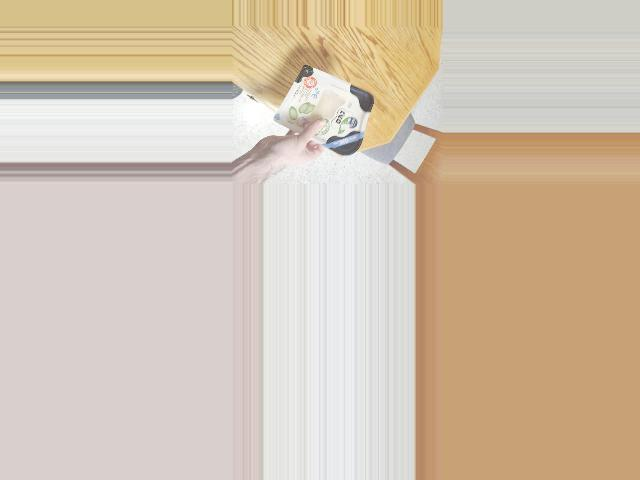cheese: (283, 70, 374, 161)
